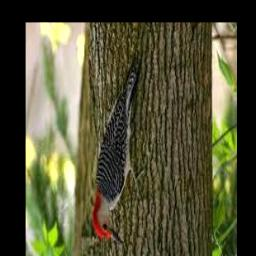Woodpecker: (92, 64, 145, 246)
